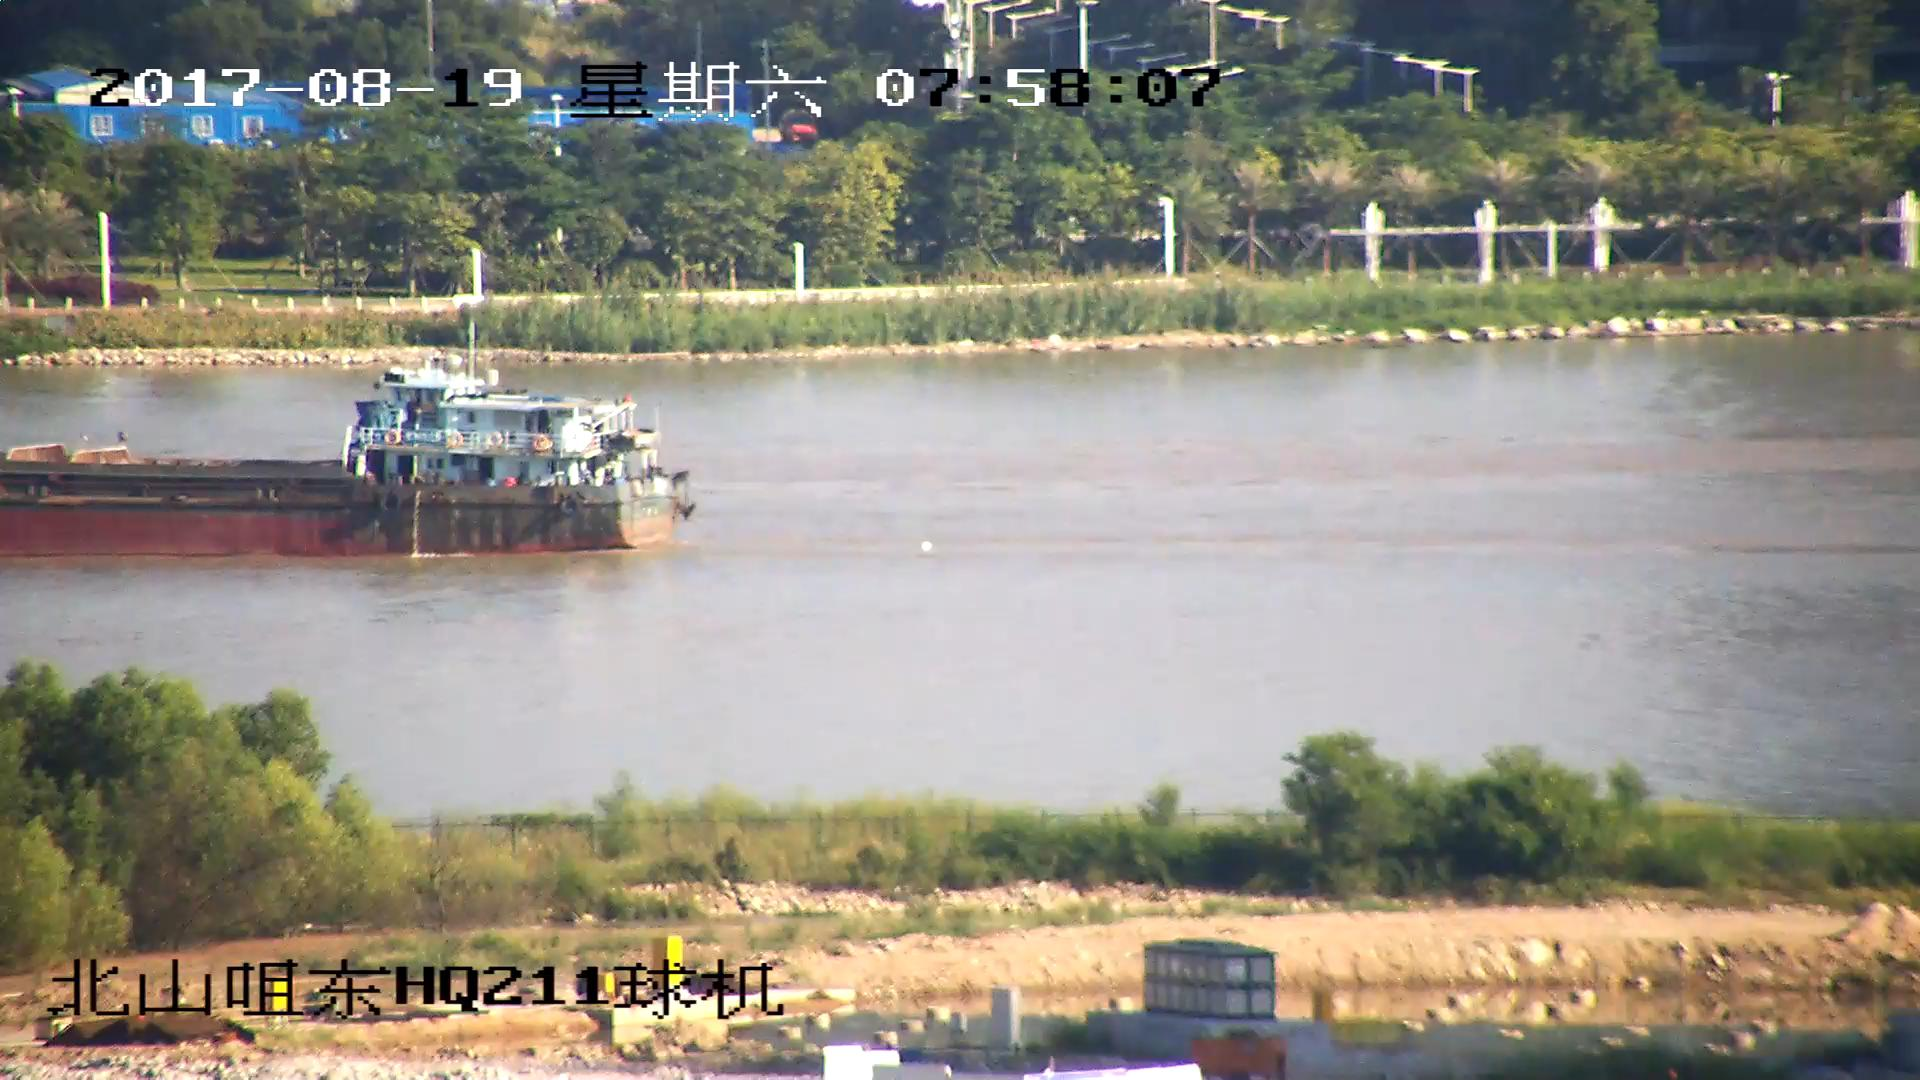bulk cargo carrier: (1, 355, 692, 555)
